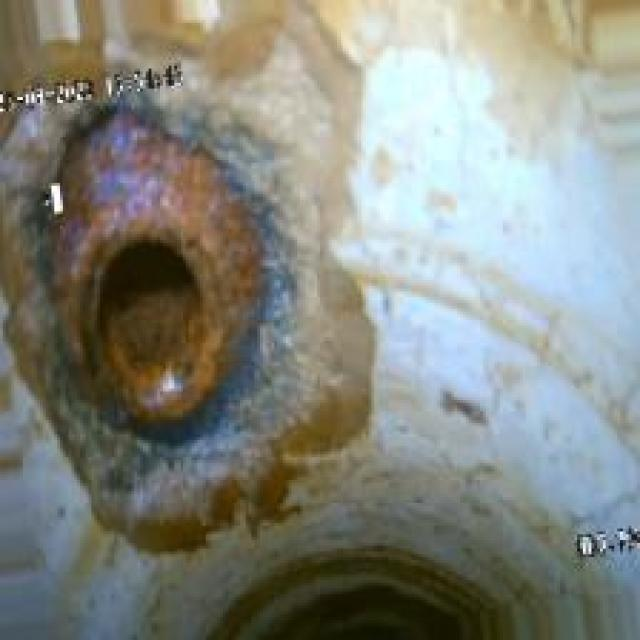ferrule: (40, 137, 274, 432)
